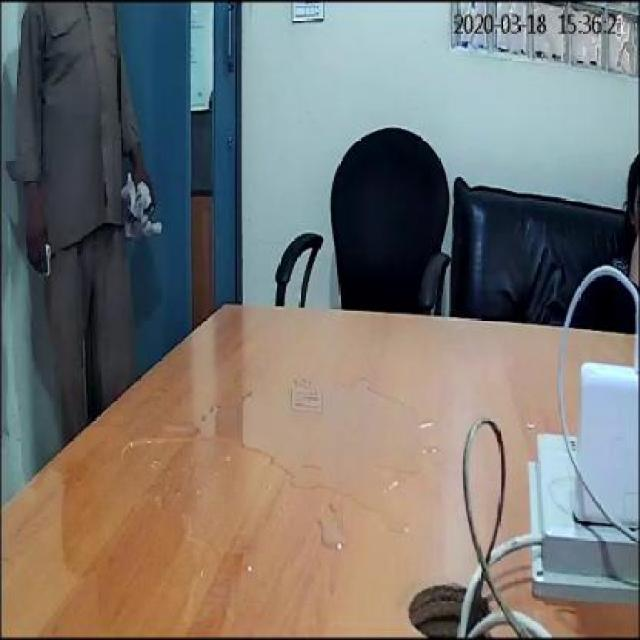spill: (127, 373, 460, 547)
